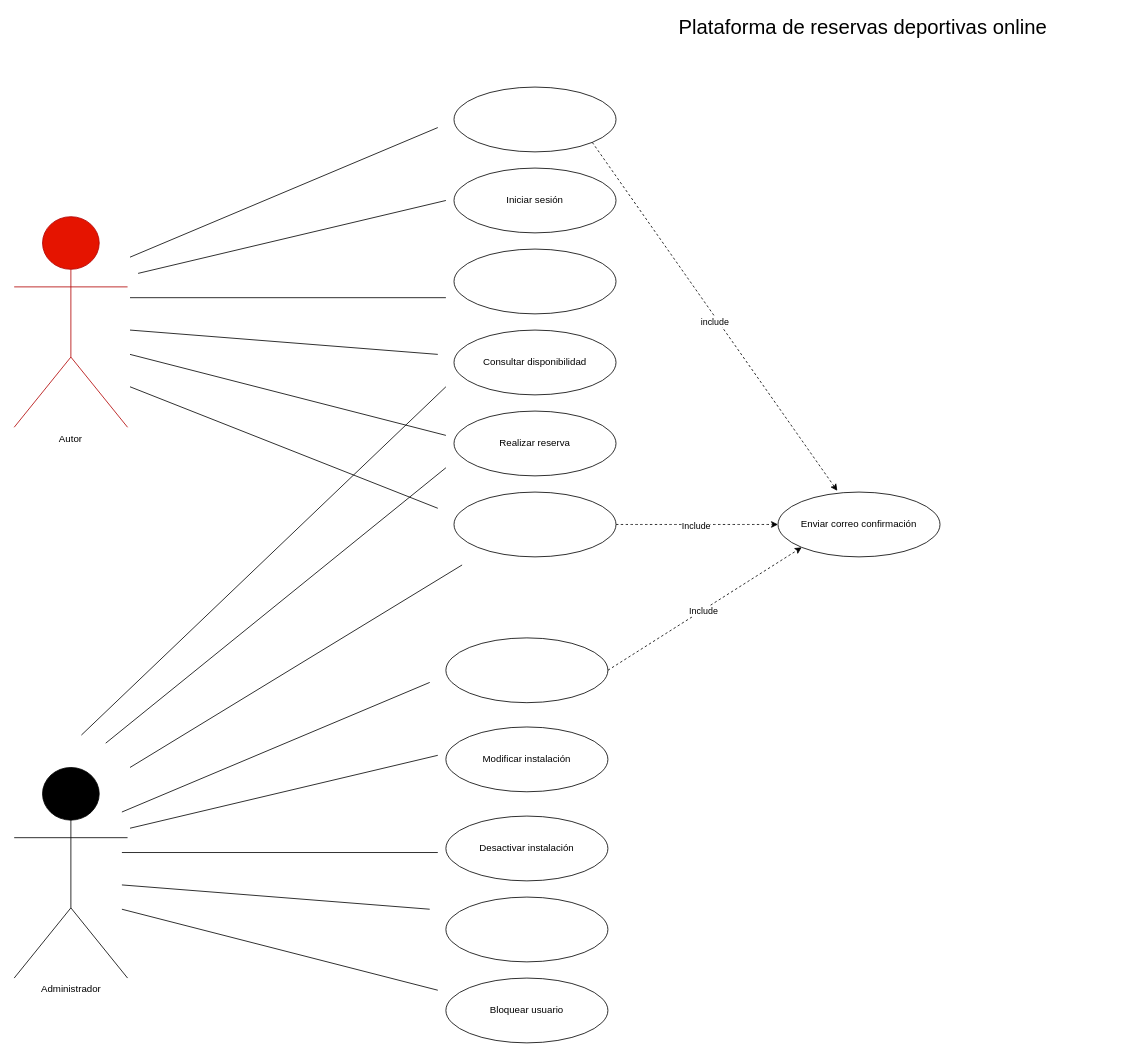
The diagram is 1124 pixels wide and 1057 high, and some of its shapes have lost their labels. The shapes that lost their labels are listed below. From the top down, each one's box as (x1, y1, x2, y2) in pixels, then its label:
(453, 86, 616, 152): Registrarse
(453, 248, 616, 314): Modificar perfil
(453, 491, 616, 557): Cancelar reserva
(445, 637, 608, 703): Añadir instalación
(445, 896, 608, 962): Consultar listado de usuarios
